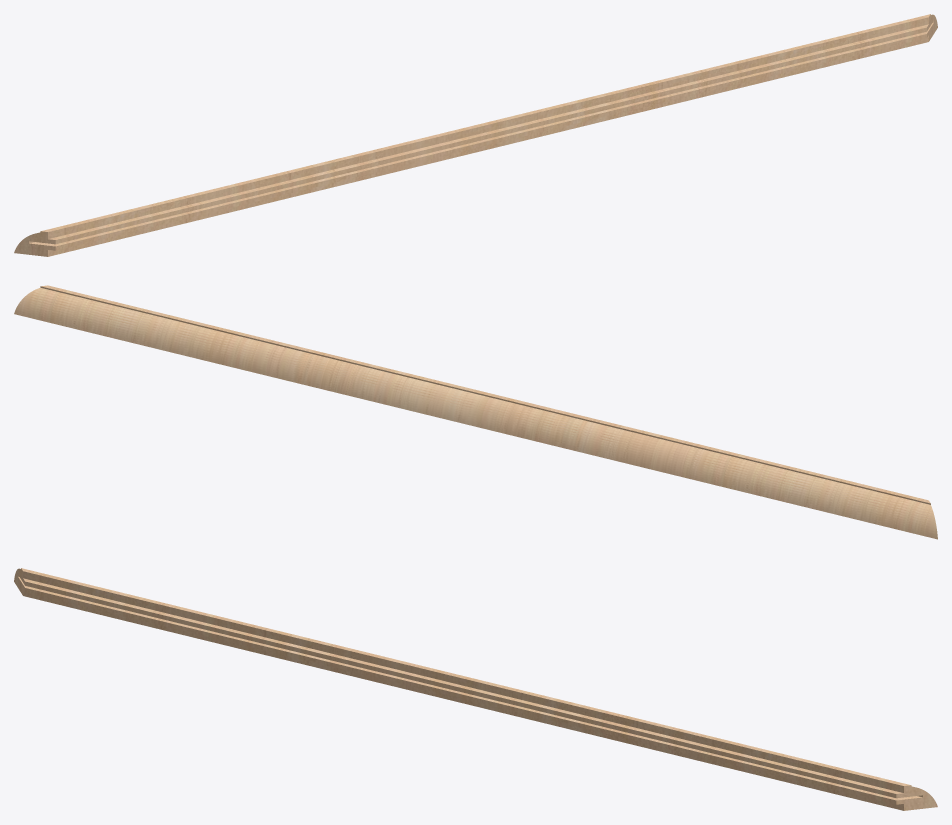
Rendered from original-26.obj.
3 views of the same model, one above another, from view 1: azimuth 30°, elevation 25°; view 2: azimuth 150°, elevation 25°; view 3: azimuth 330°, elevation 25° (orthographic).
Visible parts, largest first — view 1: edge_long2/edge_long/mesh24/mesh24-geometry#mesh24-geometry; view 2: edge_long2/edge_long/mesh24/mesh24-geometry#mesh24-geometry; view 3: edge_long2/edge_long/mesh24/mesh24-geometry#mesh24-geometry.
Boxes of the visible parts, x1,y1,x2,y2 form: edge_long2/edge_long/mesh24/mesh24-geometry#mesh24-geometry: (14, 14, 937, 256); edge_long2/edge_long/mesh24/mesh24-geometry#mesh24-geometry: (14, 285, 937, 539); edge_long2/edge_long/mesh24/mesh24-geometry#mesh24-geometry: (14, 568, 937, 810).
Bounding box in the file's own units: 1.38 × 0.0355 × 0.0395.
